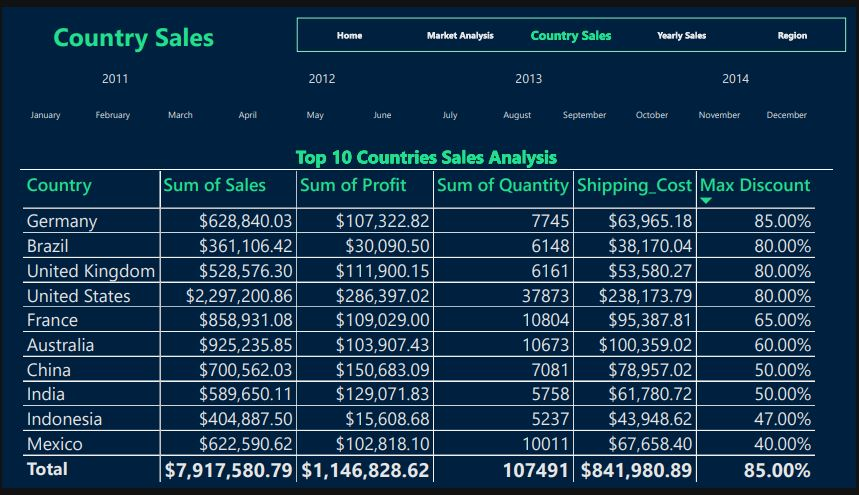

What the dashboard file says about the page in this screenshot:
{"tool":"powerbi","page":{"name":"Country Sales","canvas":[1280,720],"ordinal":2},"visuals":[{"type":"pivotTable","title":"Top 10 Countries Sales Analysis","fields":{"Rows":["Sales Data.Country"],"Values":["Sum(Sales Data.Sales)","Sum(Sales Data.Profit)","Sum(Sales Data.Quantity)","Sum(Sales Data.Shipping_Cost)","Max(Sales Data.Discount)"]},"box":[27.5,205.3,1217.3,514.7],"z":3000},{"type":"textbox","box":[0,12.5,395.1,59],"z":4000},{"type":"advancedSlicerVisual","title":"Ship Mode","fields":{"Values":["Sales Data.Order_Date.Variation.Date Hierarchy.Month"]},"box":[14.5,125.8,1217.3,69.4],"z":5000},{"type":"advancedSlicerVisual","title":"Ship Mode","fields":{"Values":["Sales Data.Order_Date.Variation.Date Hierarchy.Year"]},"box":[14.3,71.5,1244.2,67.9],"z":6000},{"type":"pageNavigator","box":[442.4,15.9,822.7,50.6],"z":6001}]}

Visuals, with their boxes in screenshot pixels (x1, y1, x2, y2), scaled from the page's 1280x720 canvas onto the 859x495 screenshot:
"Top 10 Countries Sales Analysis" pivotTable: bbox(18, 141, 835, 494)
textbox: bbox(0, 9, 265, 49)
"Ship Mode" advancedSlicerVisual: bbox(10, 86, 827, 134)
"Ship Mode" advancedSlicerVisual: bbox(10, 49, 845, 96)
pageNavigator: bbox(297, 11, 849, 46)
